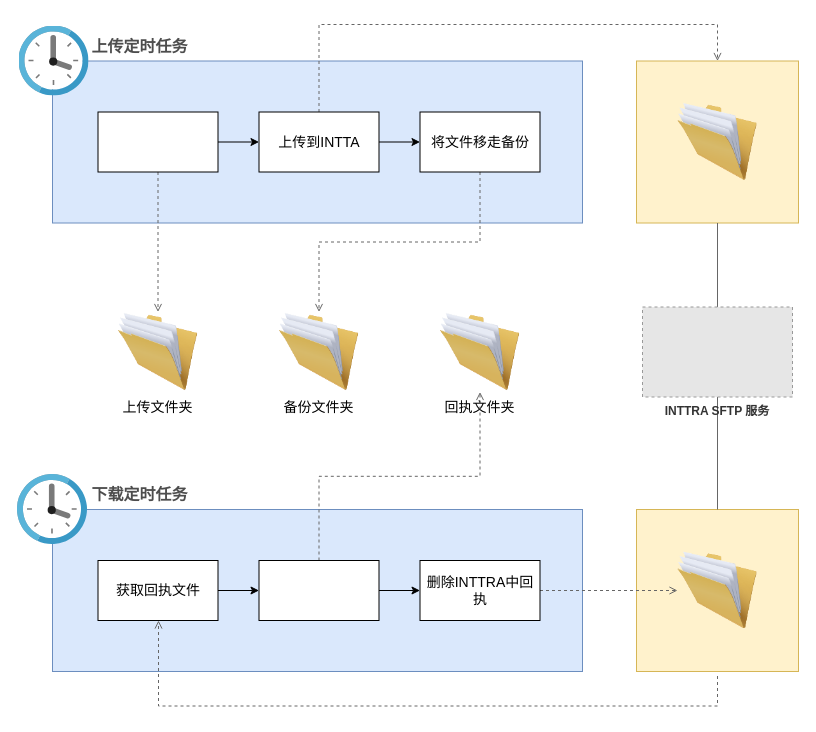
The diagram is 816 pixels wide and 732 high, and some of its shapes have lost their labels. Grey dashed boxes stand in for pictures. Each missing label, with the box of its shape:
/inbound/vgm: (677, 102, 757, 182)
/outbound/vgm: (677, 550, 757, 630)
保存到回执文件夹: (258, 560, 379, 620)
获取EDI文件: (97, 111, 218, 172)
